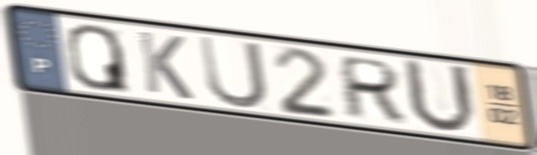2: (271, 44, 339, 120)
K: (134, 27, 196, 103)
Q: (63, 22, 133, 95)
R: (338, 53, 407, 124)
U: (400, 55, 480, 137), (195, 33, 271, 112)
